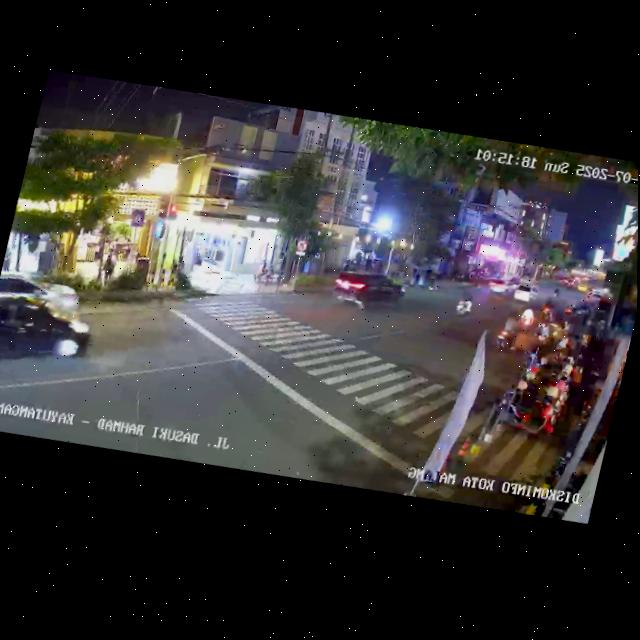car: (0, 283, 98, 388), (328, 260, 409, 320), (0, 264, 84, 319), (484, 274, 518, 304), (510, 278, 540, 308)
motorcycle: (494, 308, 523, 354), (452, 289, 478, 321), (518, 305, 538, 335)
person: (100, 249, 119, 286), (411, 265, 425, 289), (1, 247, 14, 272)
